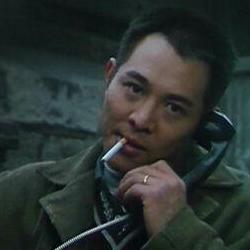smoking: (99, 130, 150, 165)
